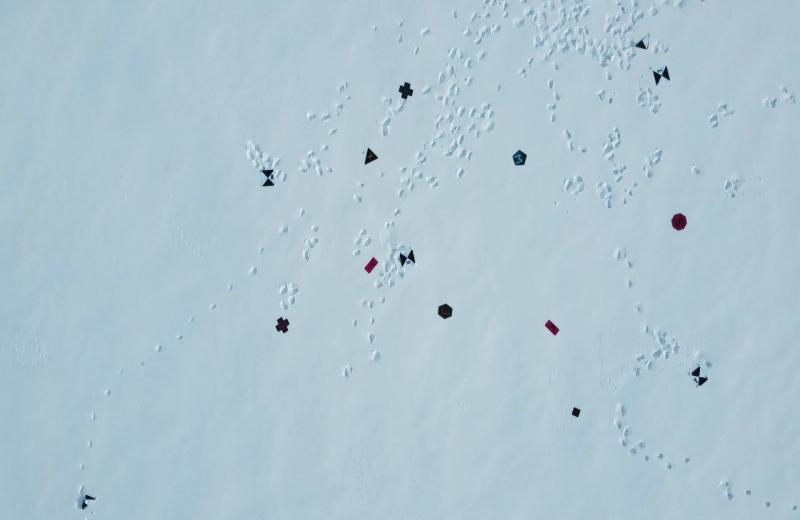Cross: (398, 80, 414, 100), (274, 316, 291, 334)
Hexagon: (436, 302, 454, 320)
Octagon: (670, 212, 688, 232)
Pentagon: (512, 149, 528, 167)
Rectangle: (362, 256, 380, 276), (543, 318, 560, 337)
Square: (571, 406, 582, 421)
Triangle: (362, 147, 380, 166)
